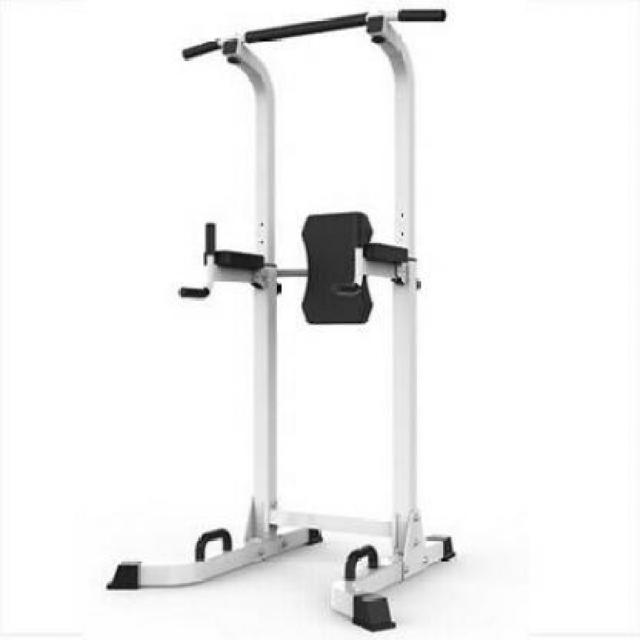chinning dipping: (110, 8, 456, 634)
